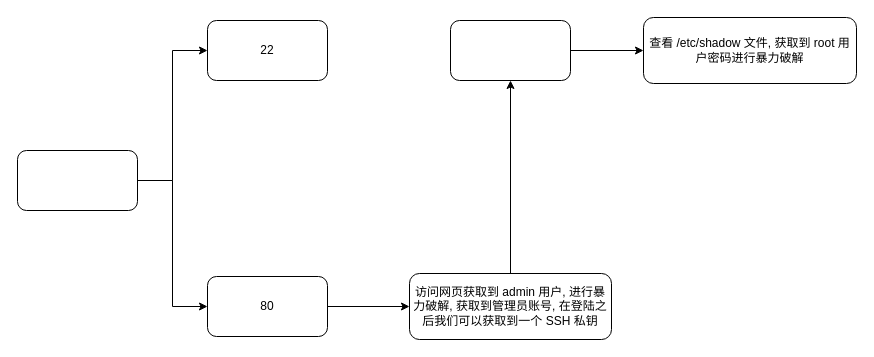
This 874x357 diagram has some shape labels left out. The shapes that lost their labels are listed below. From the top down, each one's centre as x and y in pixels, then its label:
At point (510, 50): "登陆 john 用户".
At point (77, 180): "端口扫描".
